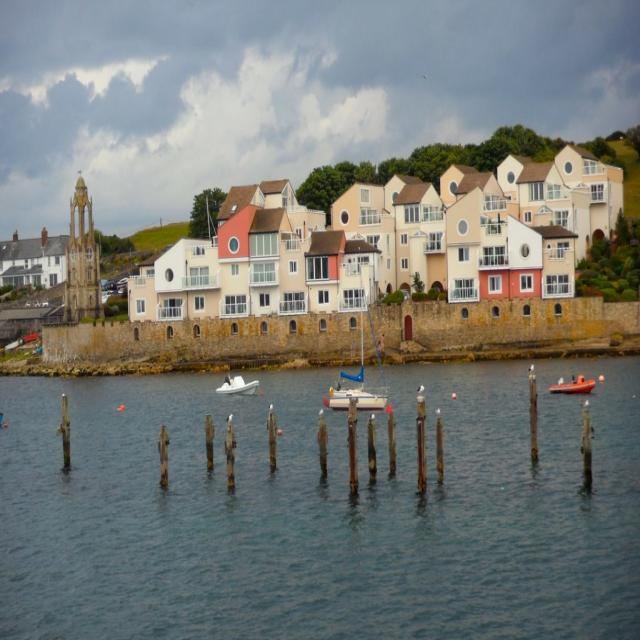Boat: (329, 374, 397, 411), (215, 370, 262, 399), (550, 376, 594, 393)
